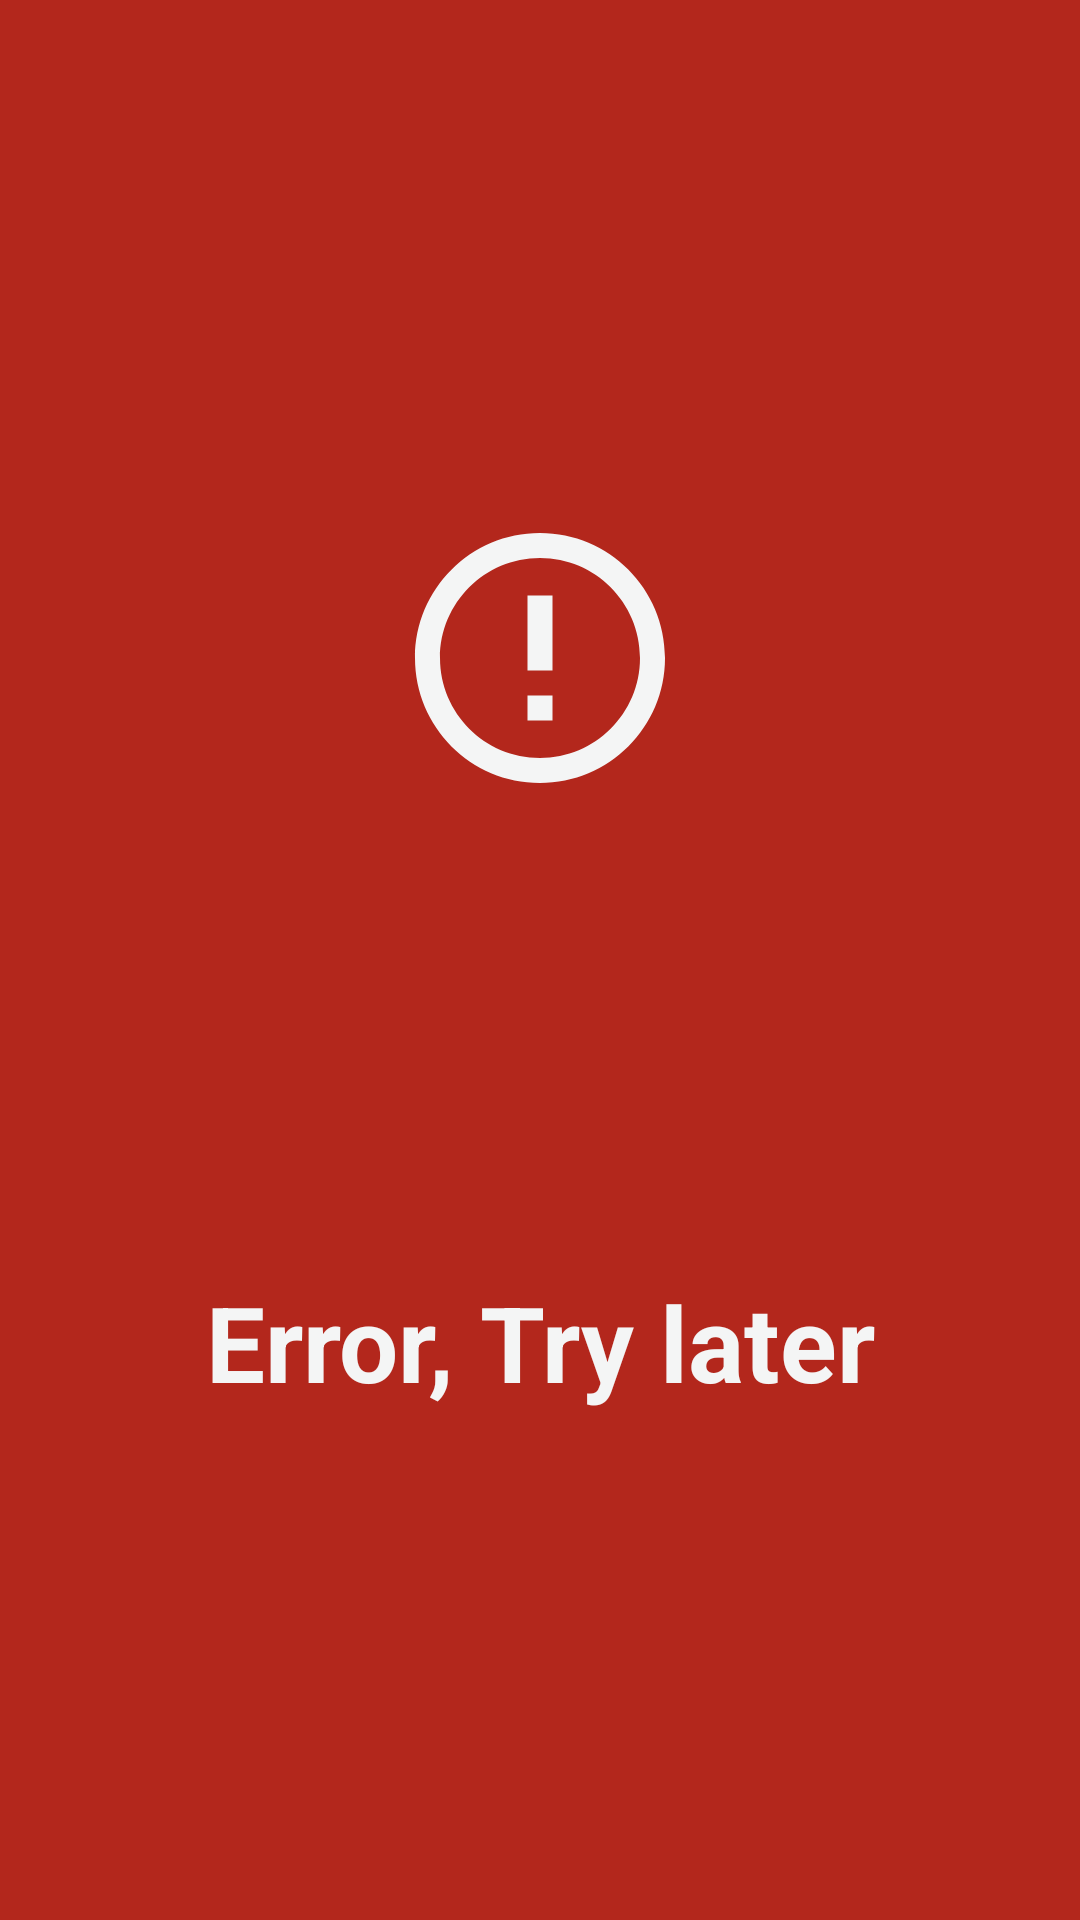

Named icons in this screenshot (1080x1920) and their bounding boxes, [x1, y1, x2, y2]:
error: [415, 533, 665, 783]
